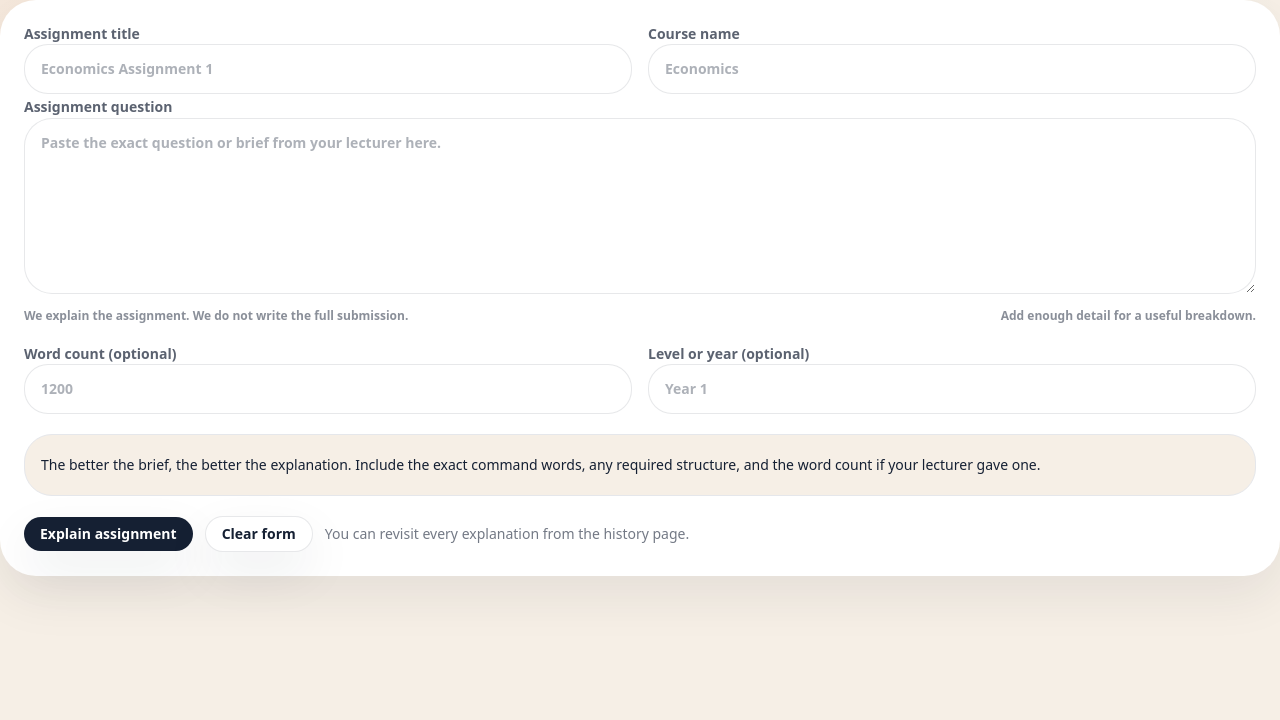
Test: AssignmentForm › shows validation feedback for a short question
Type "Too short" into the text box with placeholder "Paste the exact question or brief from your lecturer here." at coordinates (640, 206), box [24,118,1256,294]
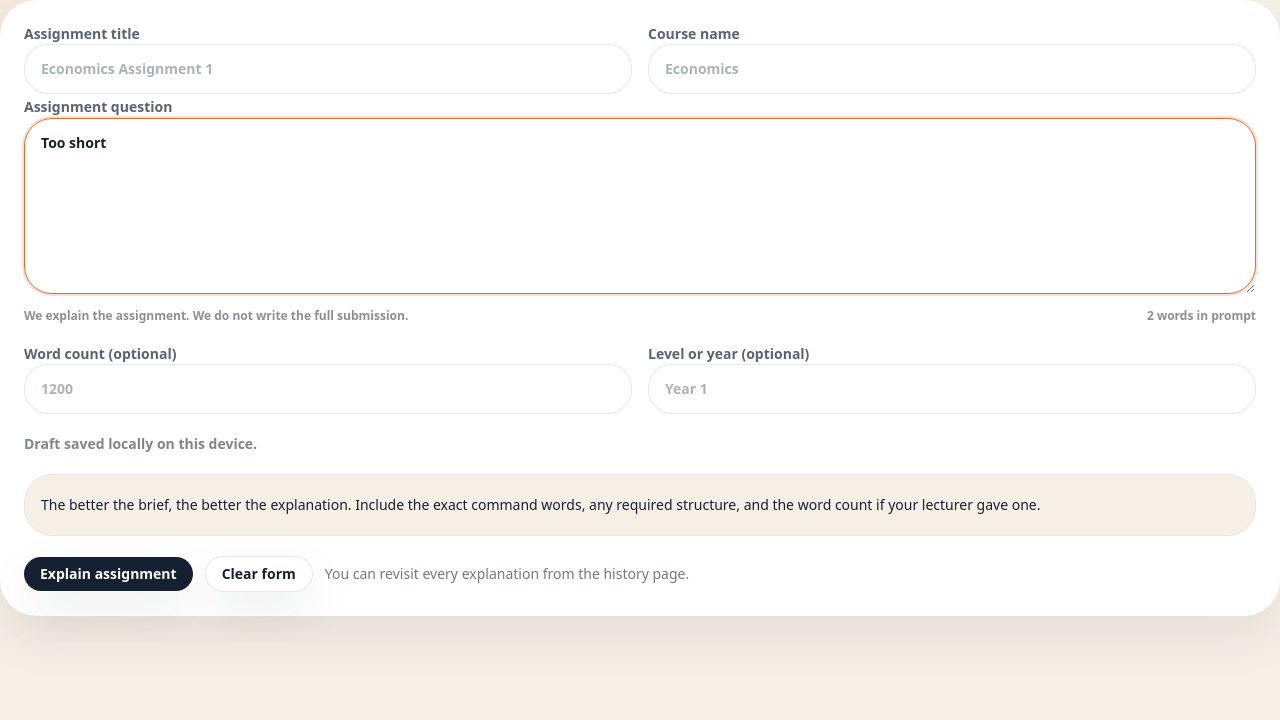
Click the button "Explain assignment" at coordinates (108, 574), box [24,557,193,591]
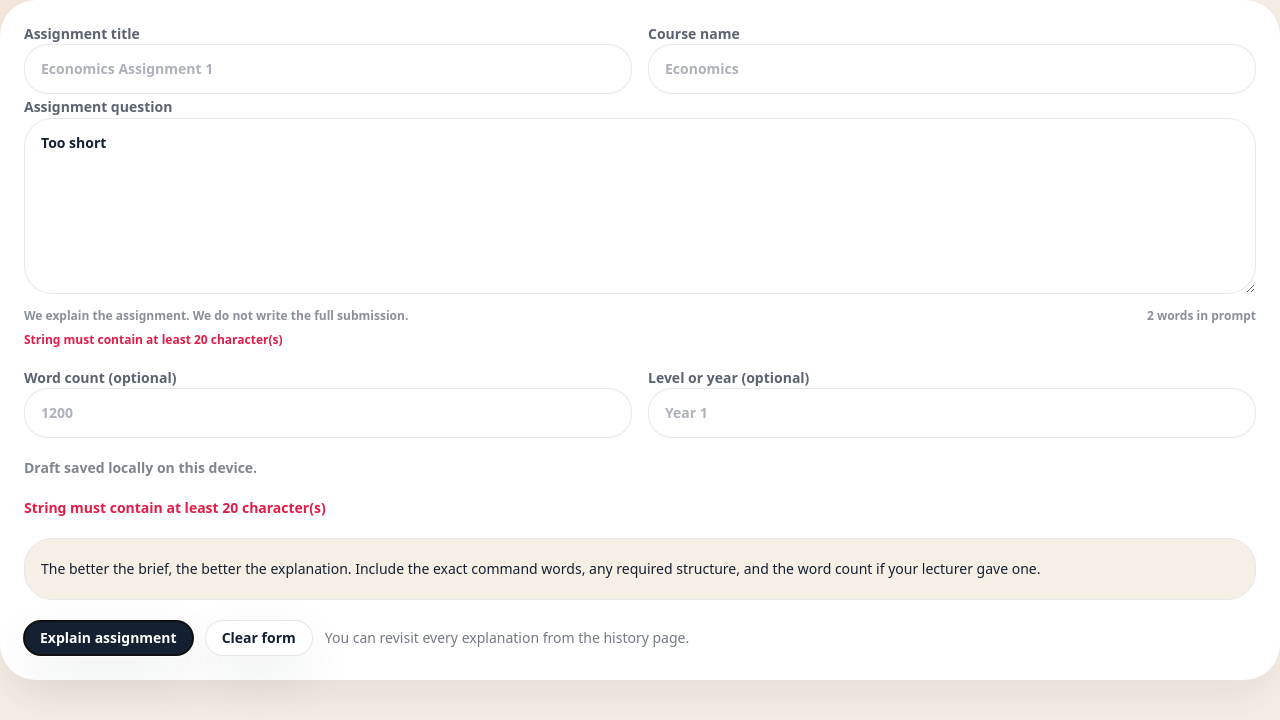
Expected: the text "String must contain at least 20 character(s)" below "2 words in prompt" is shown, [24,331,283,348]
